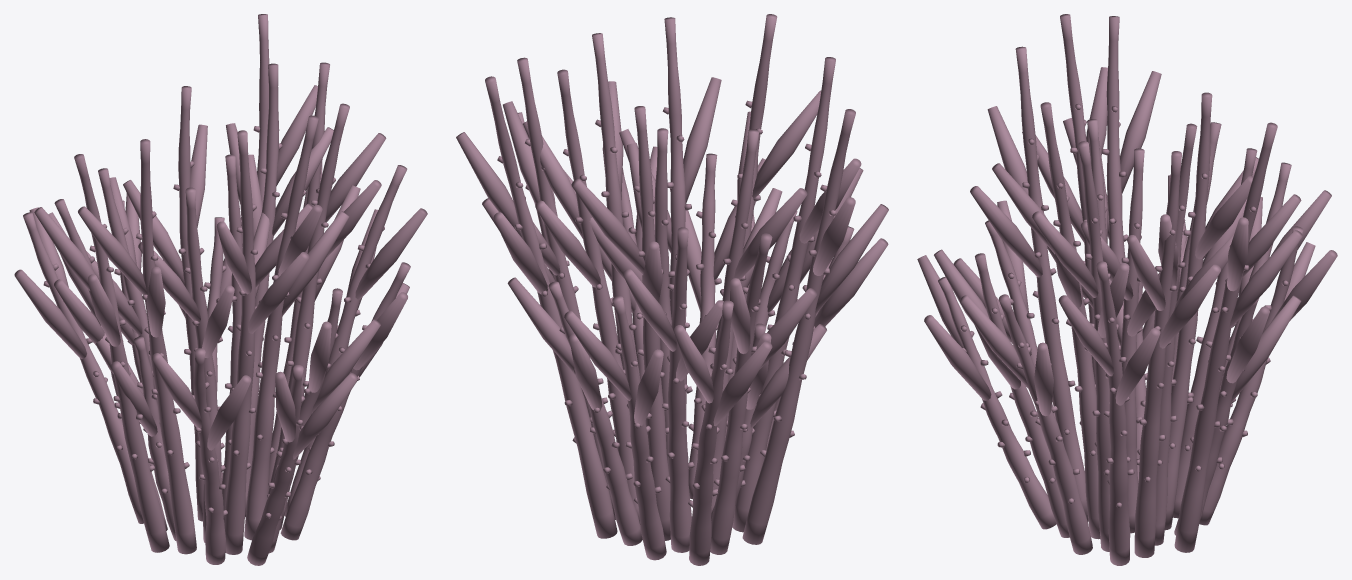
Rendered from birdsnest-desktop.glb.
The picture shows the model from 3 angles, left to right: view 1: azimuth 30°, elevation 25°; view 2: azimuth 150°, elevation 25°; view 3: azimuth 270°, elevation 25°; orthographic projection. The views are drawn at different scales.
Parts seen in each view (by area): view 1: branch, lateral-branch, radial-corallite; view 2: branch, lateral-branch, radial-corallite; view 3: branch, lateral-branch, radial-corallite.
Part boxes in pixels (x1,y1,x2,y2): branch: [23, 14, 410, 565]; lateral-branch: [14, 85, 427, 459]; radial-corallite: [43, 126, 384, 520]; branch: [485, 14, 855, 565]; lateral-branch: [456, 77, 888, 427]; radial-corallite: [497, 100, 836, 507]; branch: [938, 14, 1303, 565]; lateral-branch: [917, 67, 1337, 416]; radial-corallite: [960, 104, 1288, 507].
Bounding box in the file's own units: 0.4983 × 0.6125 × 0.5015.
